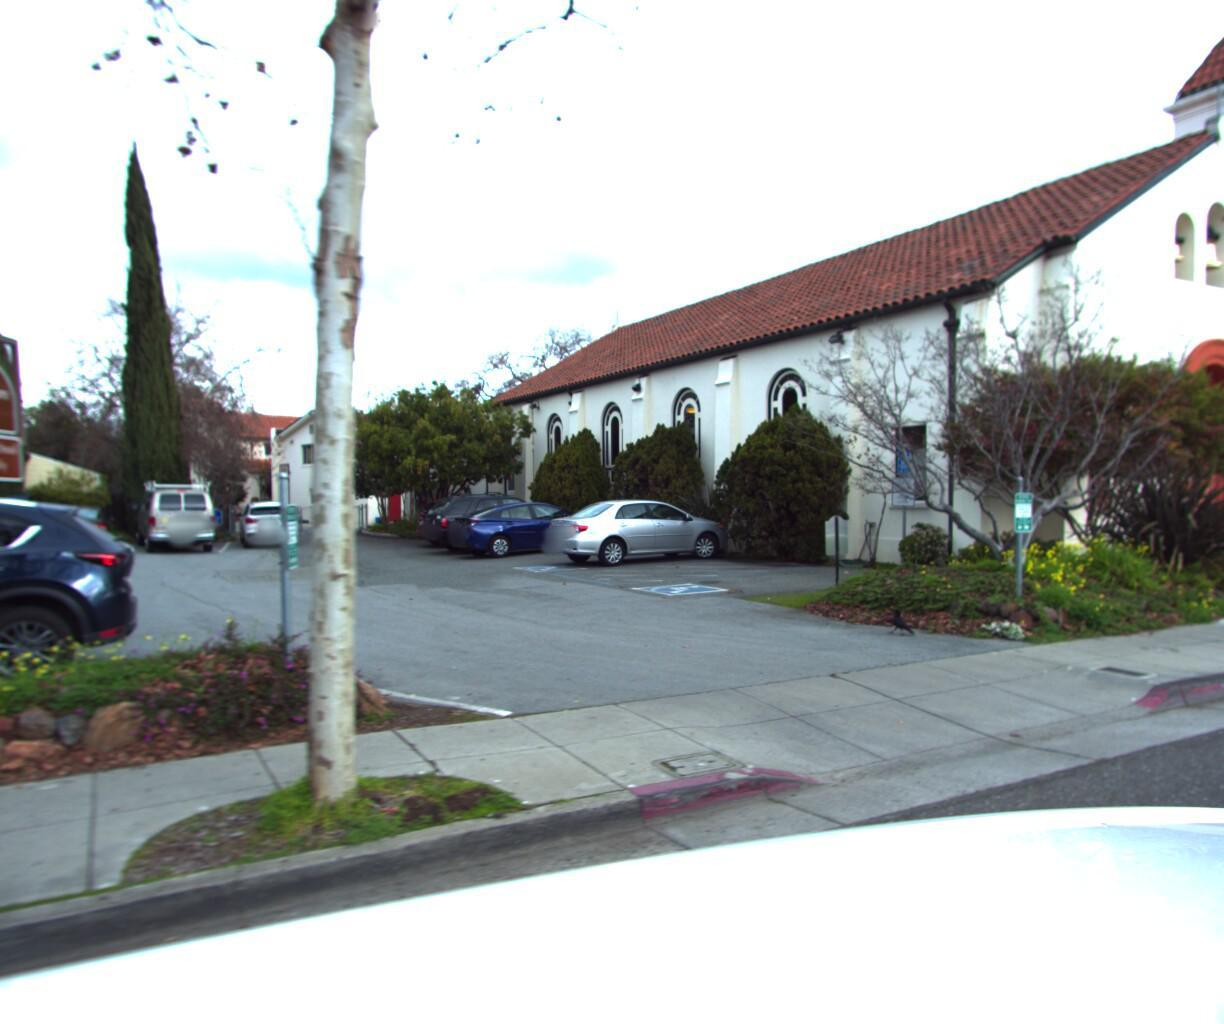car: (0, 457, 146, 766)
